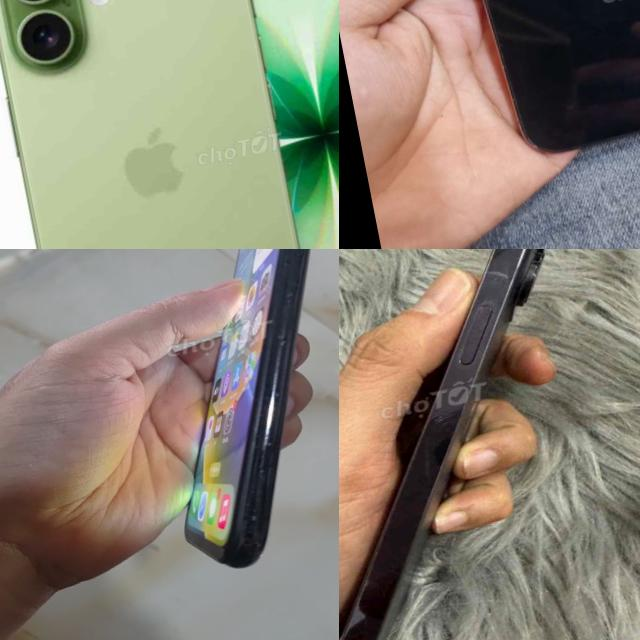gen_12_13: (422, 0, 640, 170)
gen_14: (340, 249, 546, 640)
gen_17: (0, 0, 332, 249)
gen_x_xs: (184, 249, 310, 568)
scratch: (231, 474, 288, 540), (339, 560, 379, 640), (242, 426, 290, 478), (273, 278, 311, 321), (267, 323, 309, 360)
